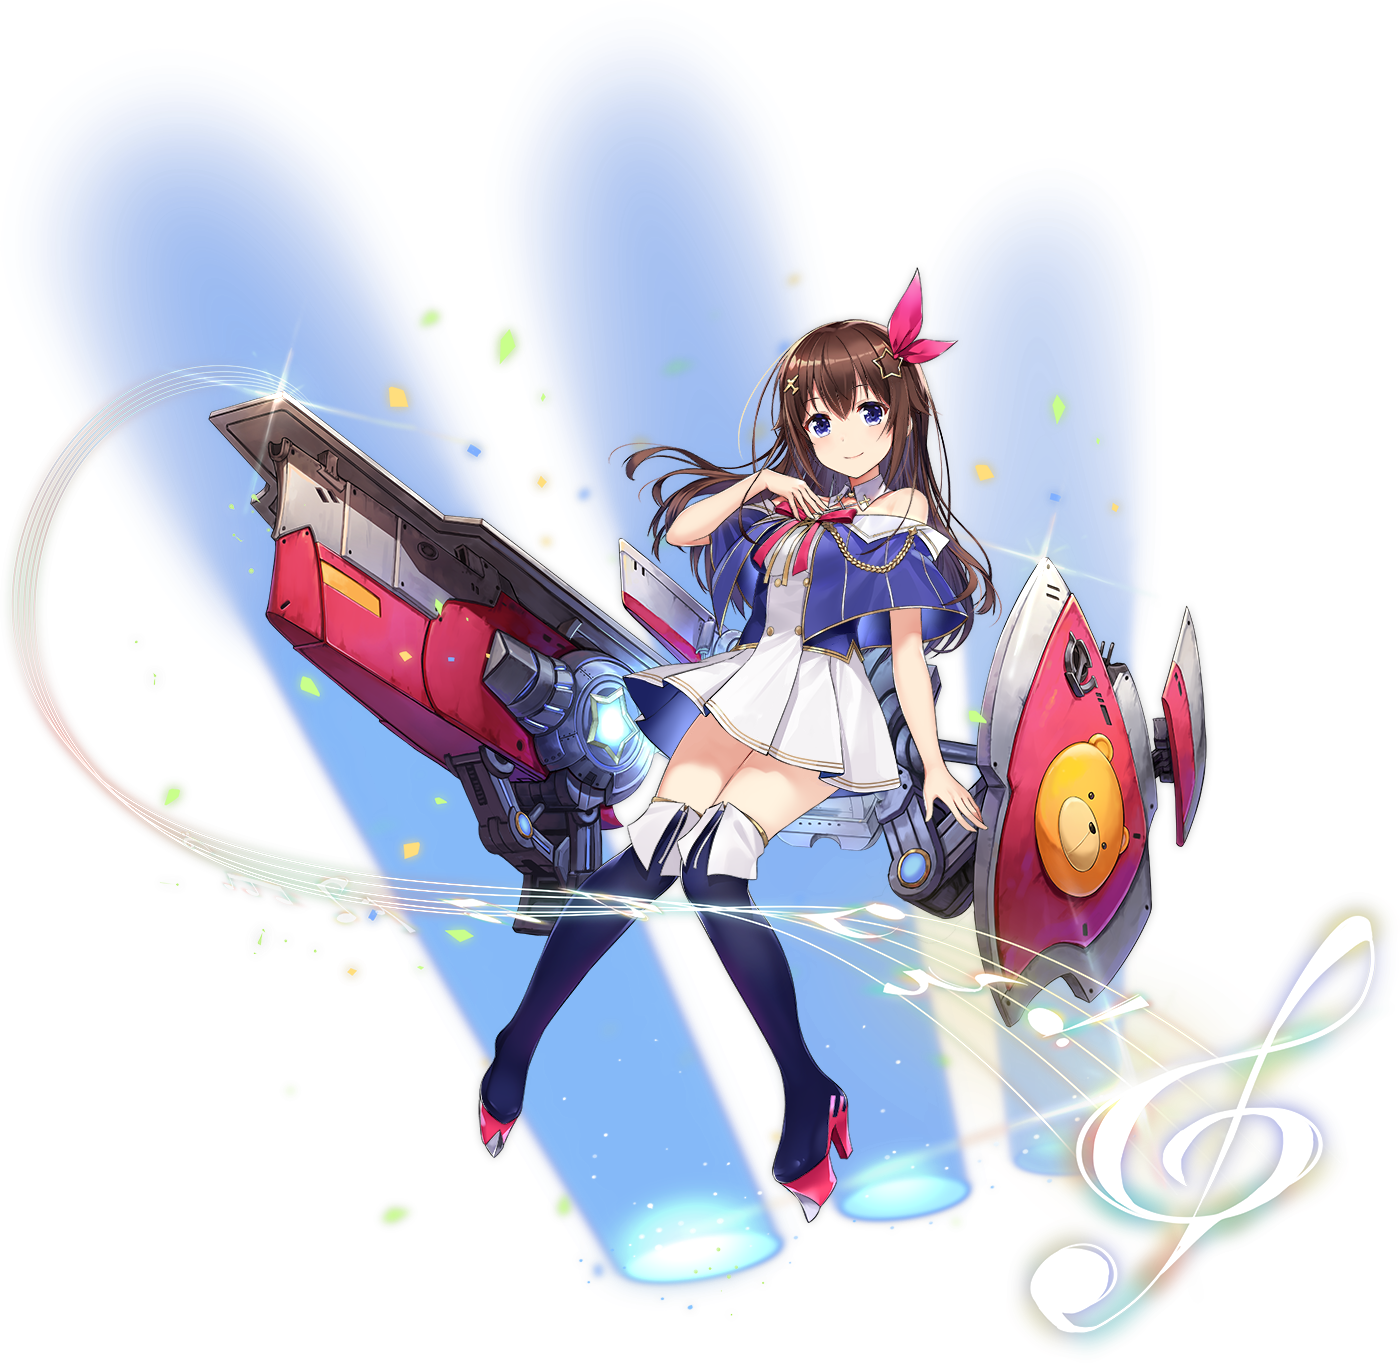person: (497, 311, 976, 1135)
